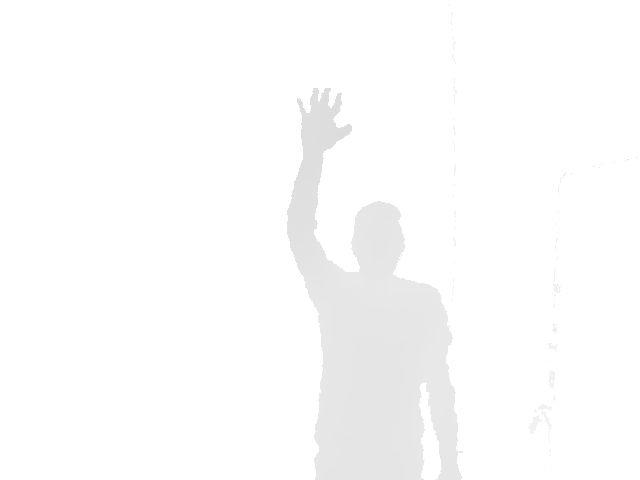hand: (296, 86, 353, 154)
head: (350, 200, 405, 278)
person: (285, 86, 464, 479)
